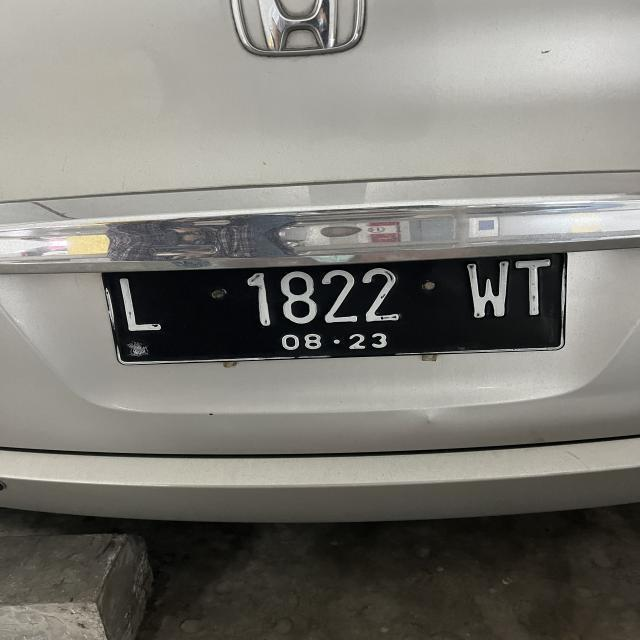1: (243, 270, 272, 330)
2: (320, 269, 360, 327), (364, 266, 402, 322)
8: (279, 266, 314, 324)
L: (110, 272, 172, 340)
T: (513, 258, 549, 318)
W: (460, 260, 508, 316)
